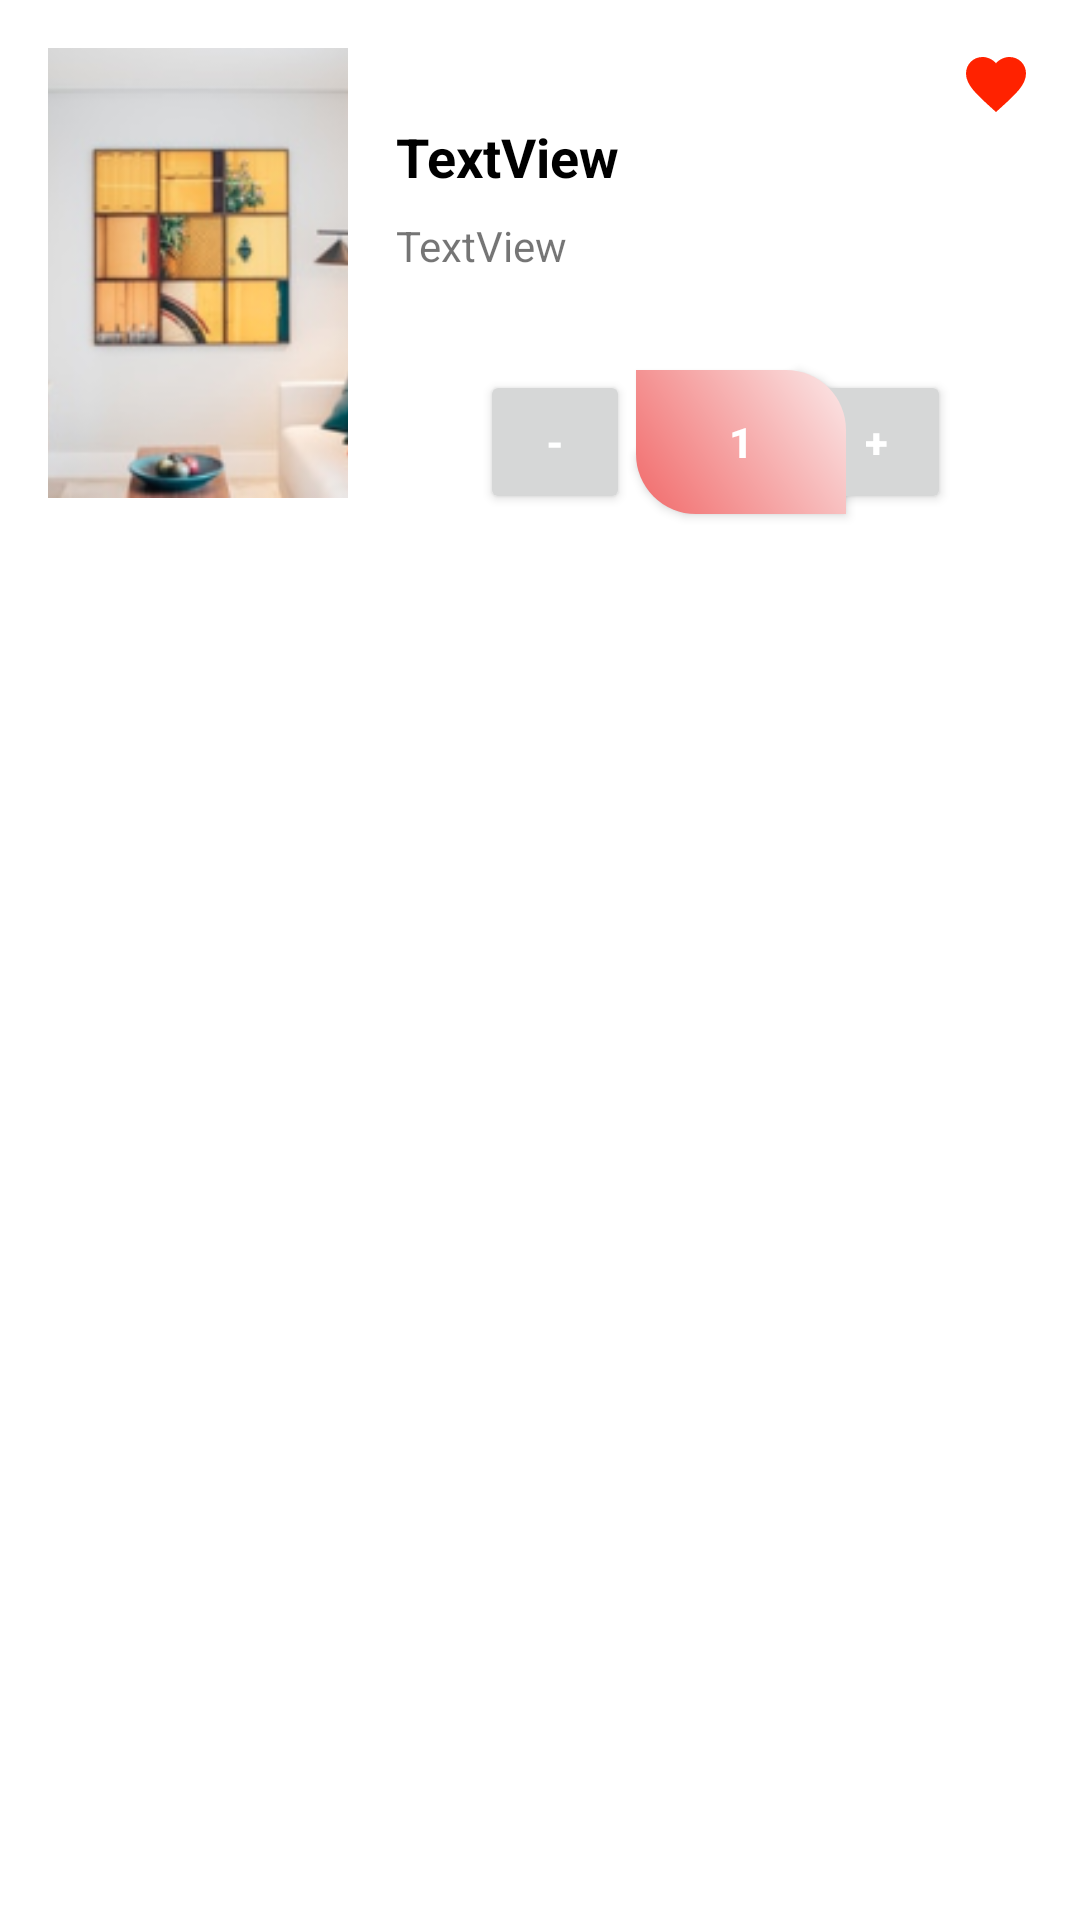

Point at icon controls on the screen. Image size 1080px×1920px, points as (x=x, y=y).
favorite: (x=996, y=84)
